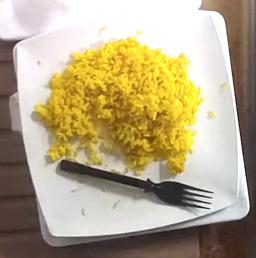rice: (35, 36, 201, 172)
